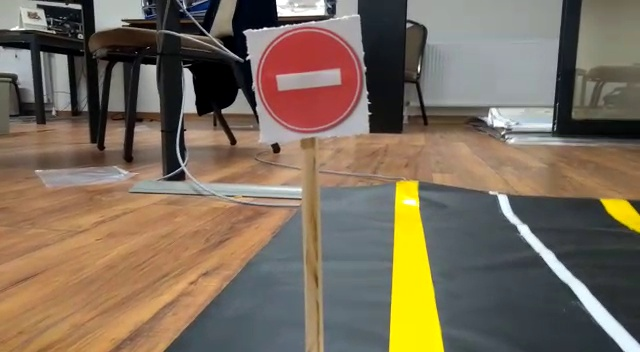girisi_olmayan_yol: (249, 30, 363, 137)
